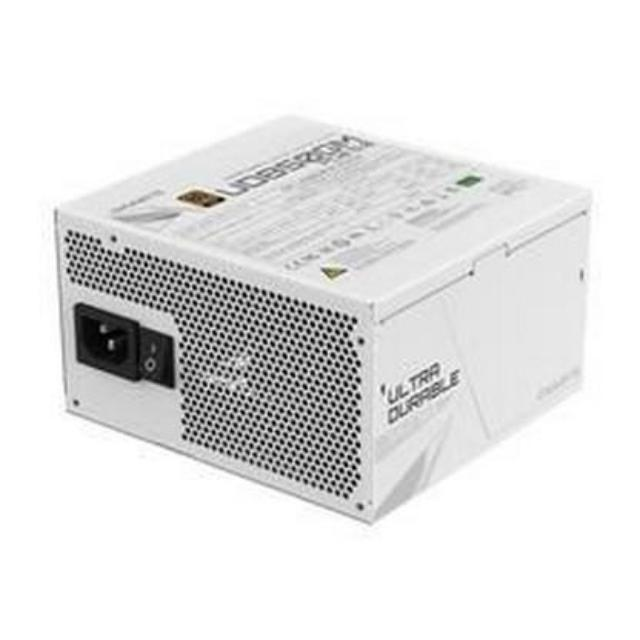PSU: (48, 106, 598, 538)
